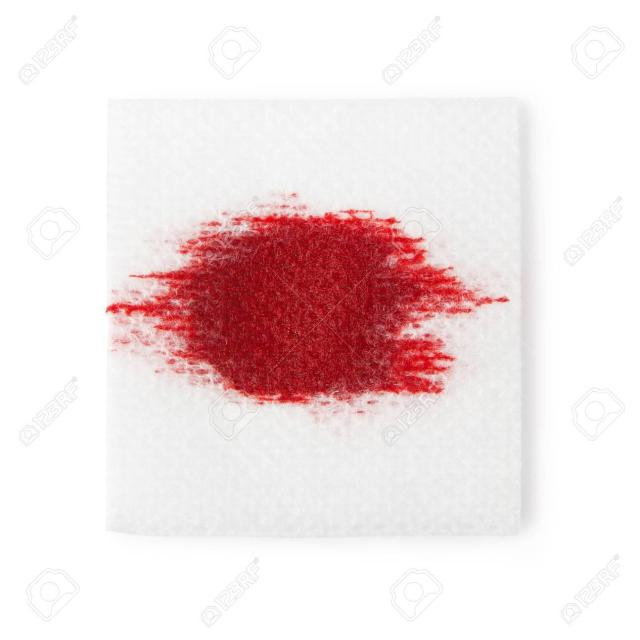B3: (99, 87, 554, 551)
